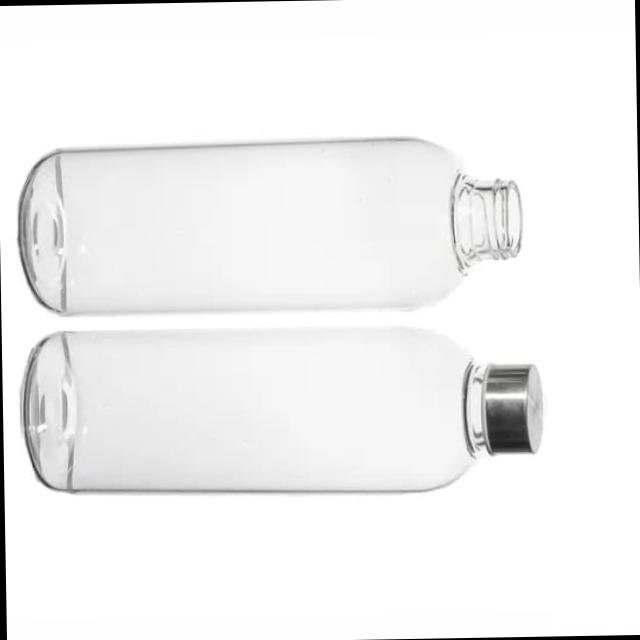glass: (10, 104, 550, 324), (13, 302, 570, 508)
